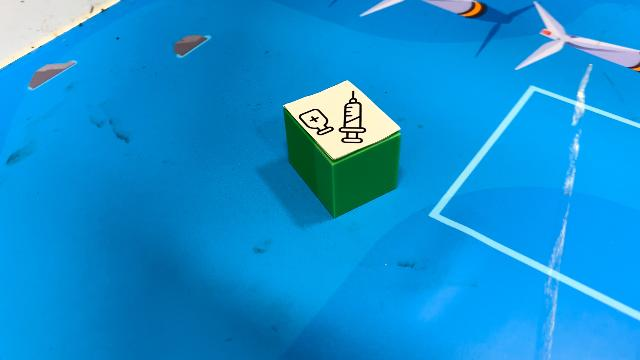syringe: (281, 78, 403, 218)
